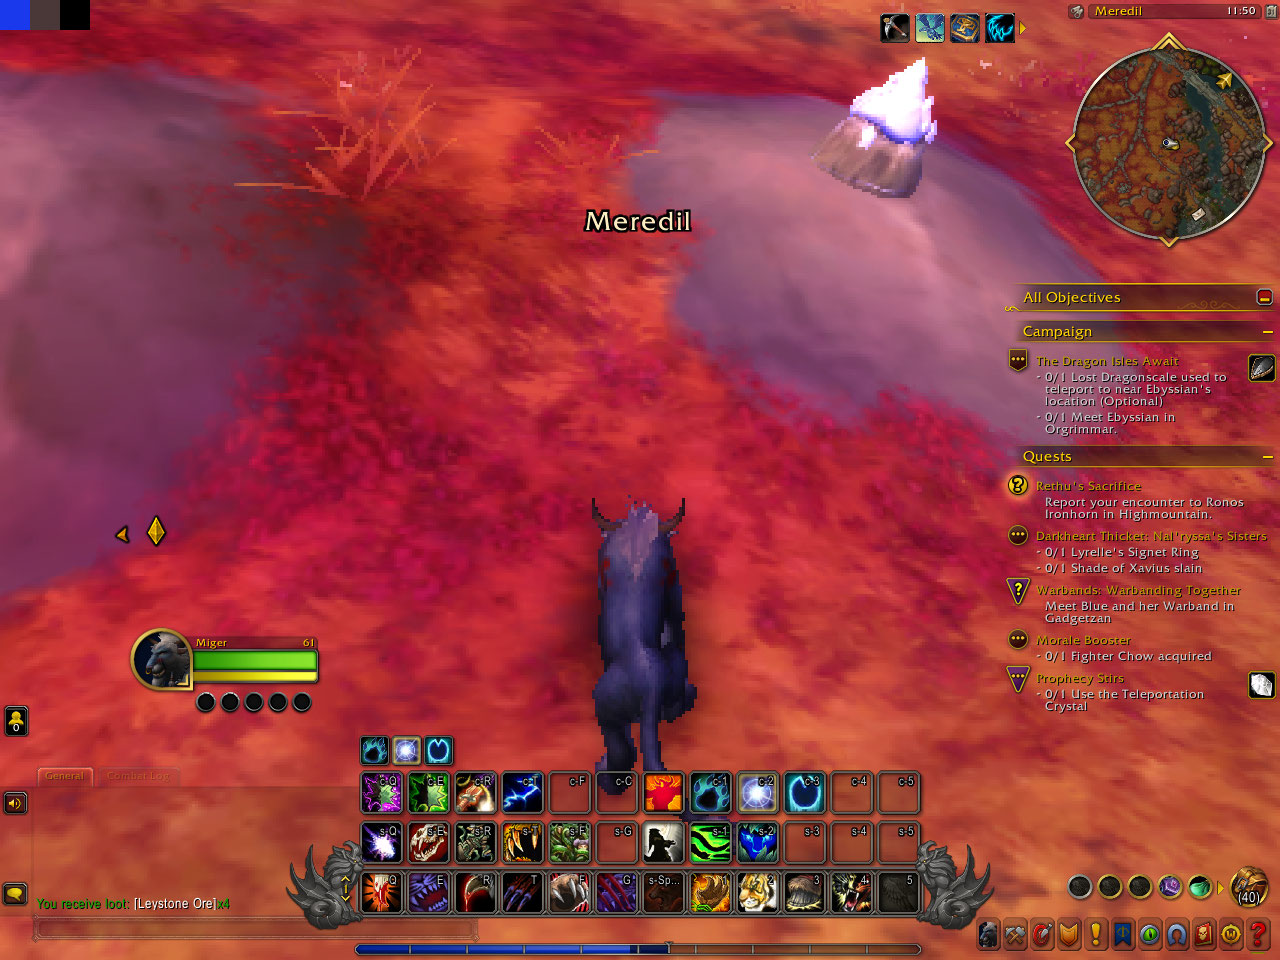ore: (810, 58, 940, 198)
